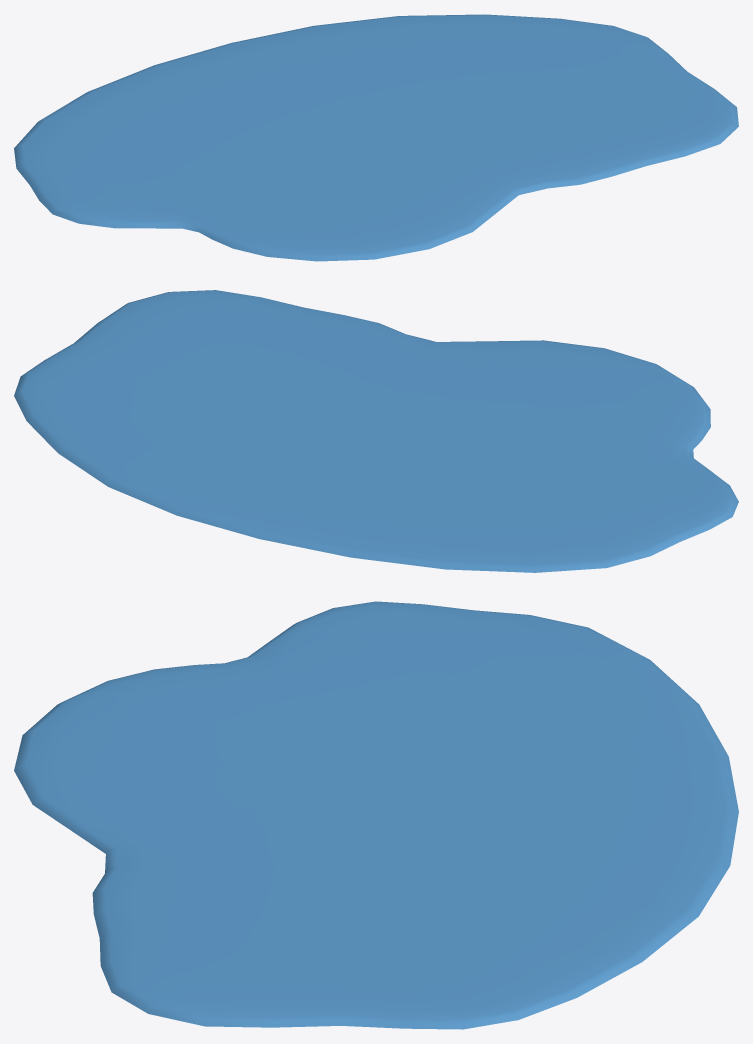
The model's file is Emotion_Puddle.fbx.
The picture shows the model from 3 angles, top to bottom: view 1: azimuth 30°, elevation 25°; view 2: azimuth 150°, elevation 25°; view 3: azimuth 270°, elevation 25°; orthographic projection. The views are drawn at different scales.
Visible parts, largest first — view 1: Puddle; view 2: Puddle; view 3: Puddle.
Boxes of the visible parts, bbox=[...] form: Puddle: bbox=[14, 14, 738, 261]; Puddle: bbox=[14, 290, 738, 572]; Puddle: bbox=[14, 601, 738, 1029].
Bounding box in the file's own units: 132 × 1.05 × 94.65.
